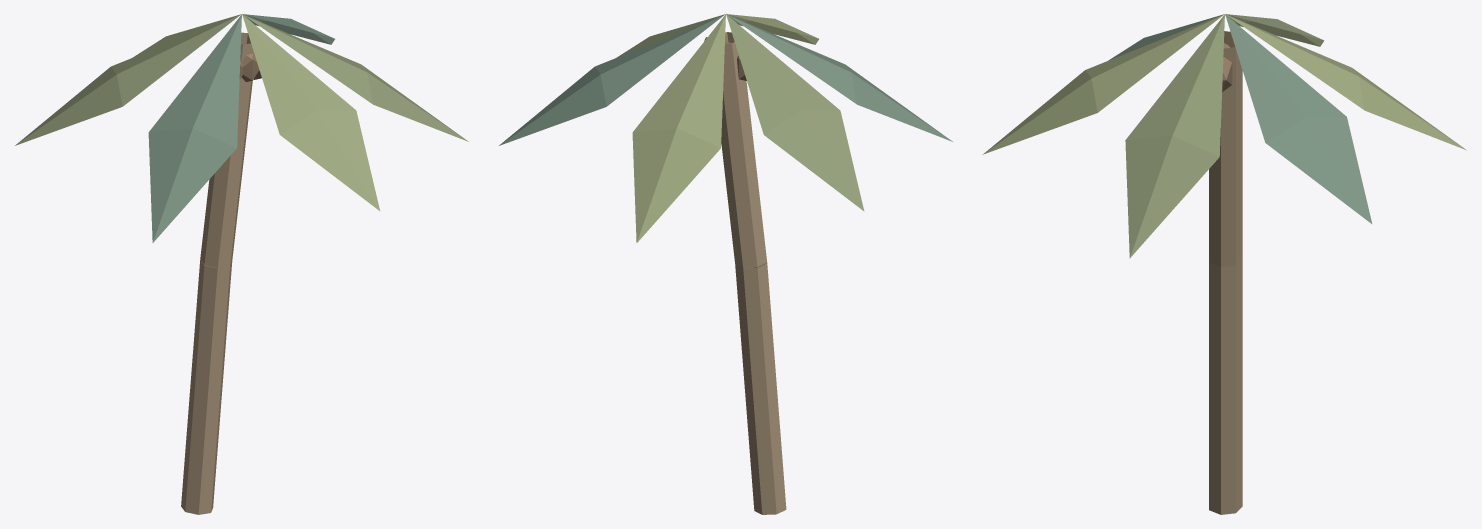
3 views of the same model, side by side, from view 1: azimuth 30°, elevation 25°; view 2: azimuth 150°, elevation 25°; view 3: azimuth 270°, elevation 25° (orthographic). The views are drawn at different scales.
Parts seen in each view (by area): view 1: T21; view 2: T21; view 3: T21.
Boxes of the visible parts, x1,y1,x2,y2 form: T21: [15, 14, 468, 514]; T21: [499, 14, 952, 514]; T21: [982, 14, 1466, 514].
Size of the model in its own units: 2.3 by 2.91 by 2.47.
